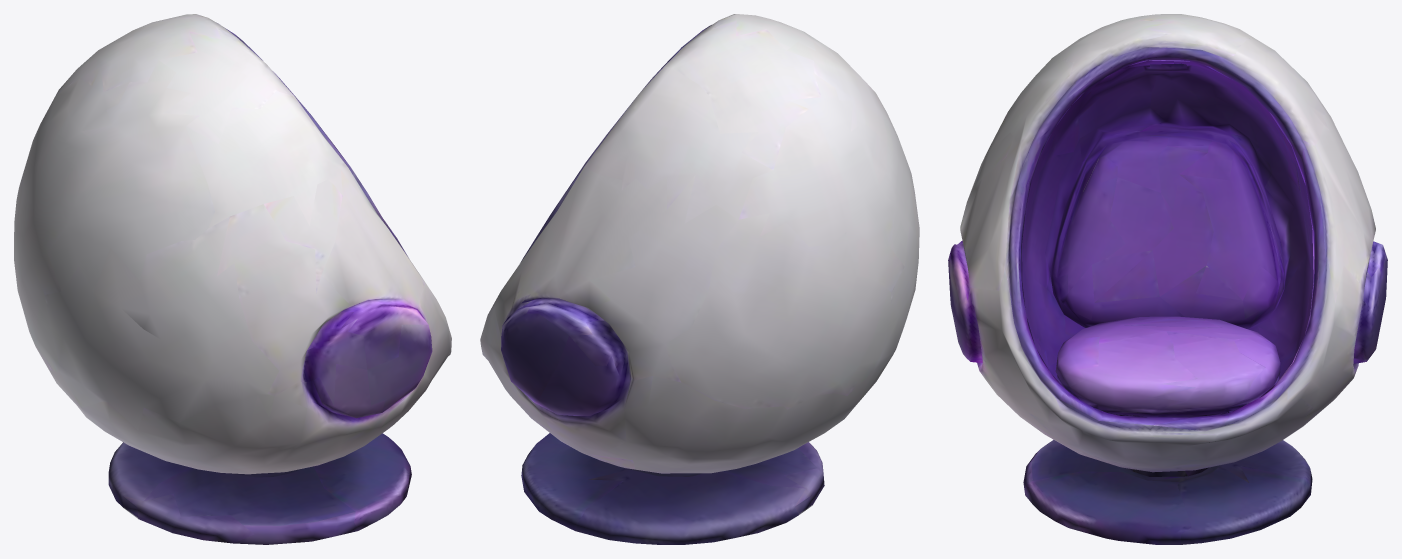
The model's file is uv-pod.glb.
The picture shows the model from 3 angles, left to right: view 1: azimuth 30°, elevation 25°; view 2: azimuth 150°, elevation 25°; view 3: azimuth 270°, elevation 25°; orthographic projection. The views are drawn at different scales.
Visible parts, largest first — view 1: tripo_node_886d3c04-1ca7-4378-960f-b26792ef5107; view 2: tripo_node_886d3c04-1ca7-4378-960f-b26792ef5107; view 3: tripo_node_886d3c04-1ca7-4378-960f-b26792ef5107.
Boxes of the visible parts, x1,y1,x2,y2 form: tripo_node_886d3c04-1ca7-4378-960f-b26792ef5107: (14, 14, 451, 544); tripo_node_886d3c04-1ca7-4378-960f-b26792ef5107: (480, 14, 919, 544); tripo_node_886d3c04-1ca7-4378-960f-b26792ef5107: (948, 14, 1387, 544).
Bounding box in the file's own units: 0.8234 × 0.9999 × 0.9191.
1 material, 1 textured.
